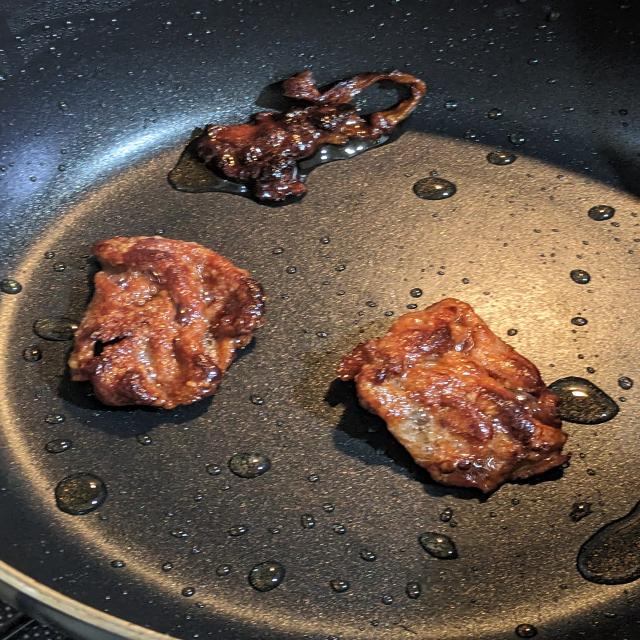overcooked pork: (316, 285, 588, 500), (57, 228, 287, 416), (189, 65, 440, 210)
